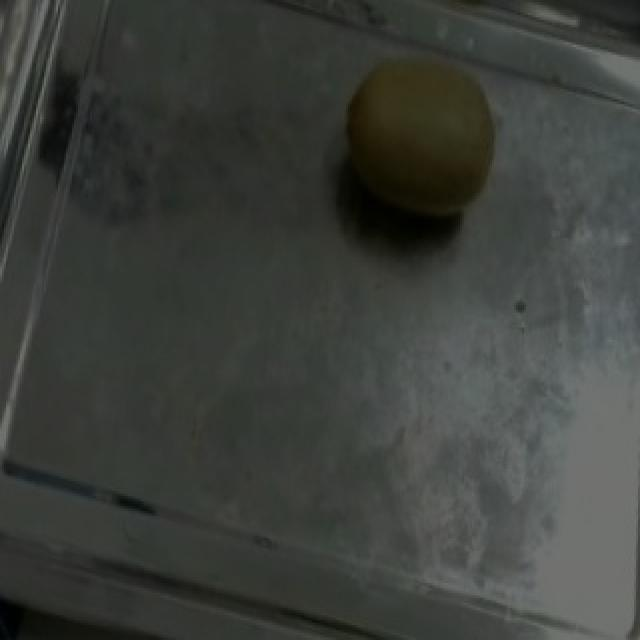Fruit: (306, 20, 534, 275)
